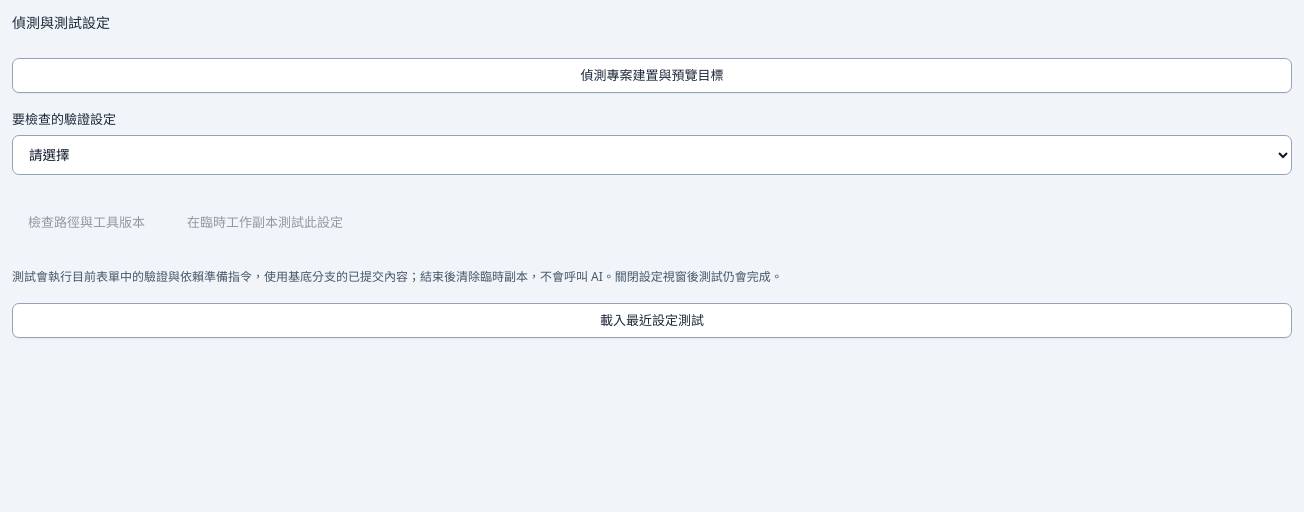
Test: reattaches to an active test and explicitly cancels it while waiting for final cleanup
Click the button "載入最近設定測試".
click(652, 320)  # box [12,303,1292,338]
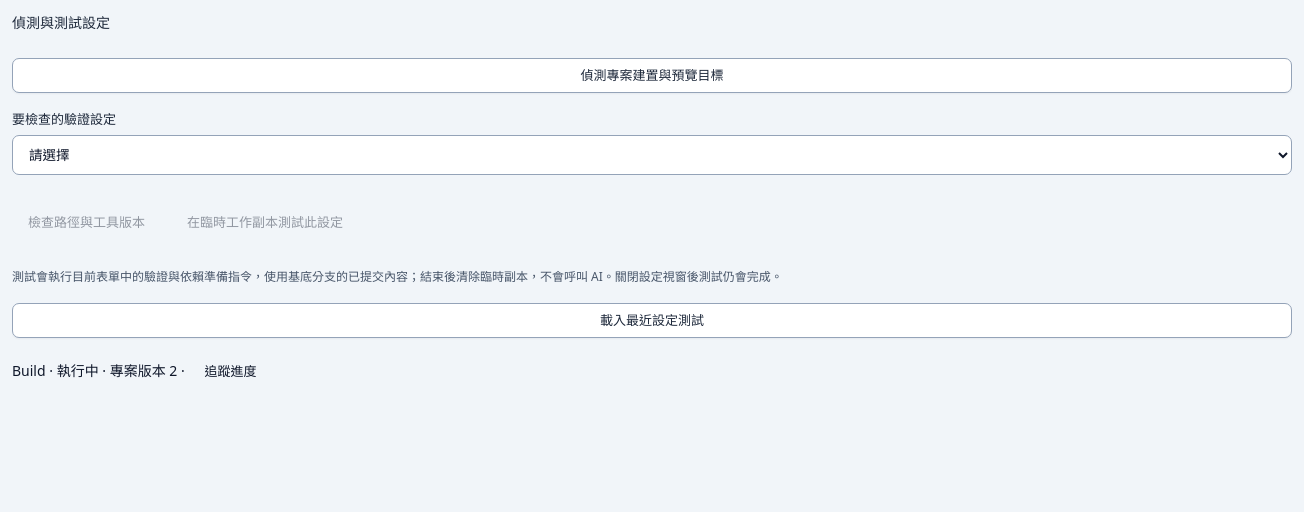
Click the button "追蹤進度".
click(230, 372)  # box [188,354,272,390]
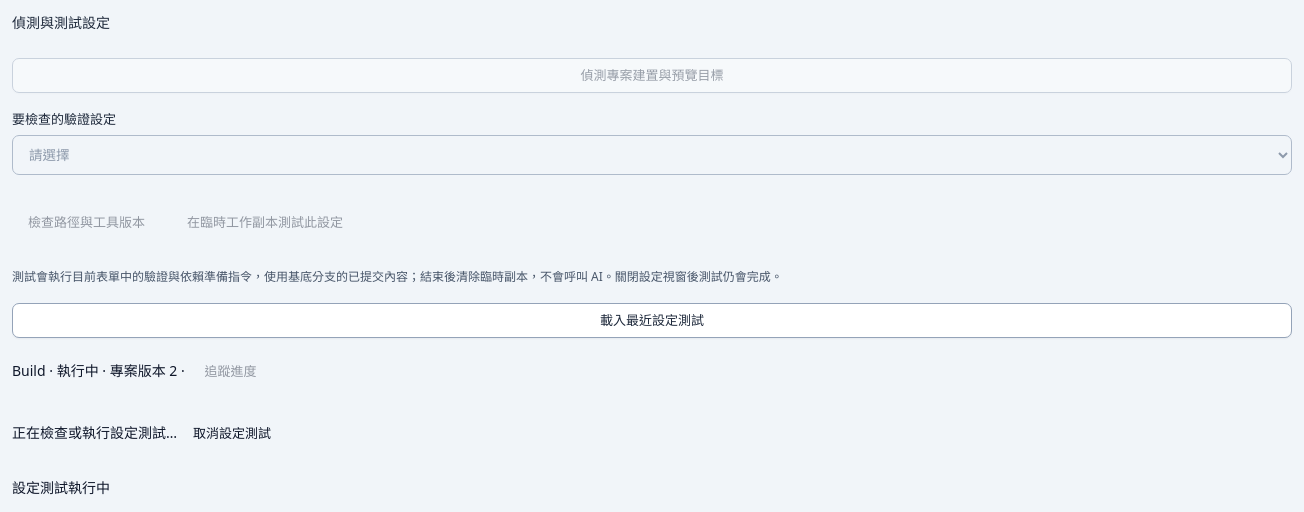
Click the button "取消設定測試".
click(232, 434)  # box [177,416,287,451]
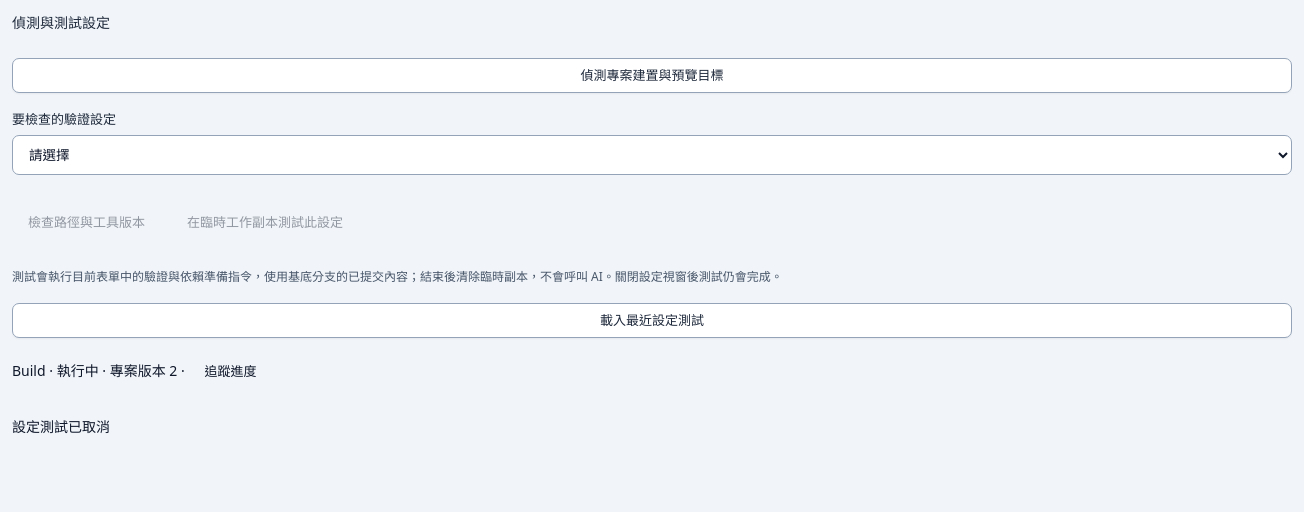
Expected: the text "設定測試已取消" is shown, [12,417,110,436]
Expected: the button "取消設定測試" is gone
